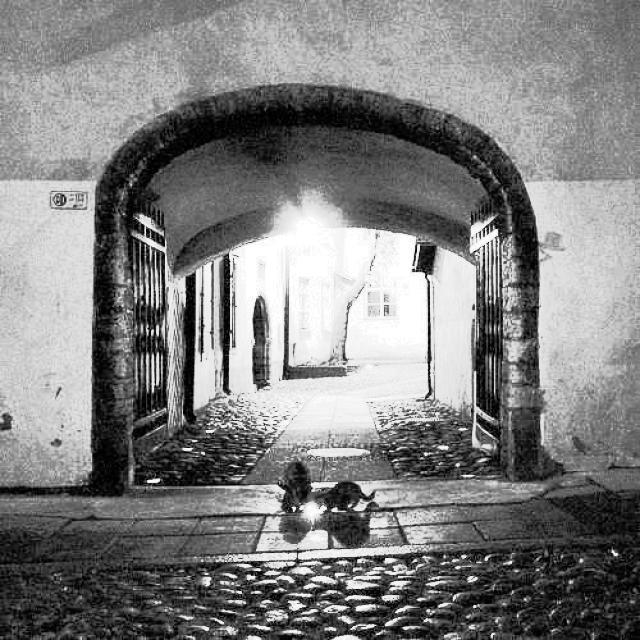Cat: (310, 481, 381, 516), (277, 447, 307, 517)
